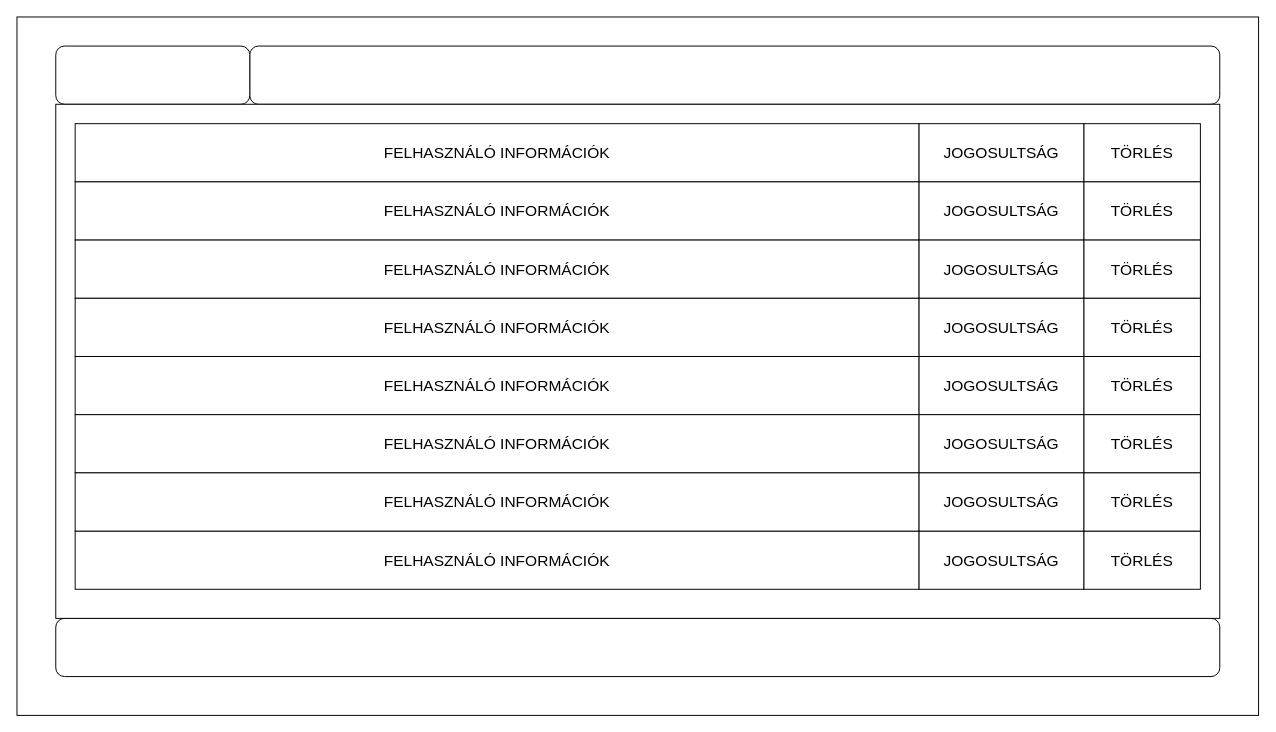
Image size: 1276x732. Some labels were removed from this diagram. Here are the shapes that lost their labels. From the top down, the centre of each, then its label:
the point at 152,74: LOGÓ ÉS CÉGNÉV
the point at 734,74: MENÜSÁV
the point at 637,647: LÁBJEGYZET
